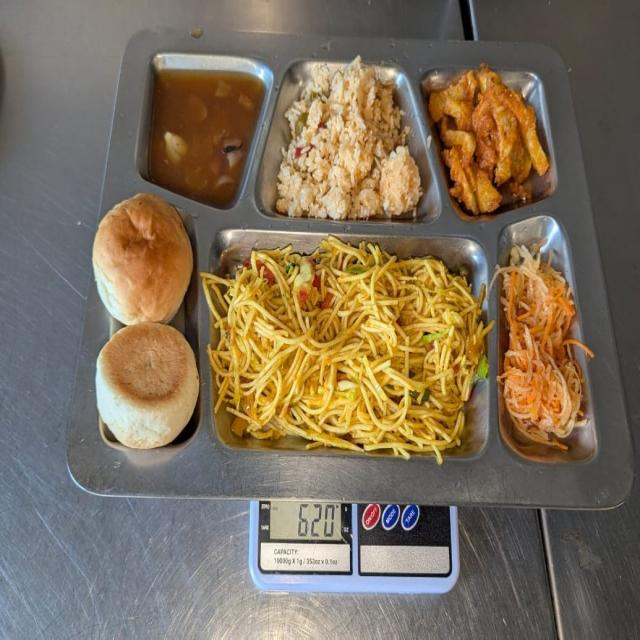Chilli Potato: (433, 64, 550, 207)
Fried Rice: (273, 59, 419, 218)
Noodles: (207, 238, 481, 455)
Paneer Curry: (140, 56, 264, 203)
Salad: (500, 238, 585, 453)
Soft Roll: (96, 196, 200, 447)
